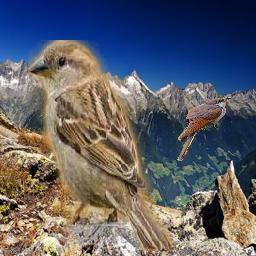Cuckoo: (177, 97, 231, 161)
Sparrow: (29, 41, 174, 252)
